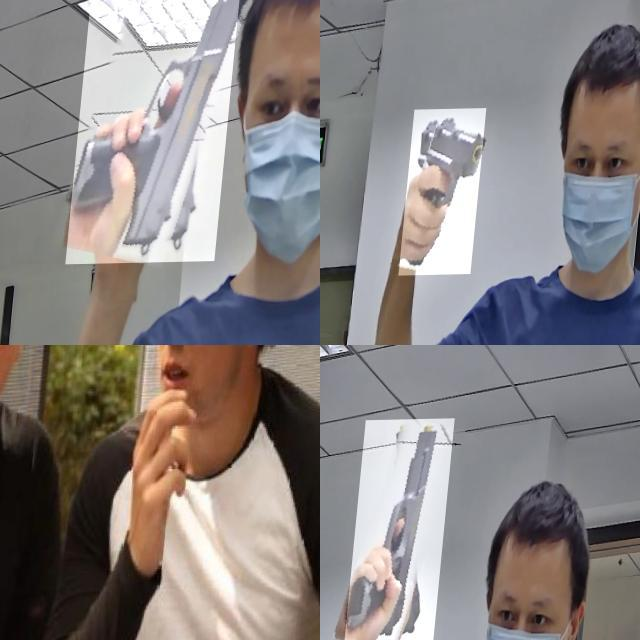-: (0, 451, 51, 640)
gun-knife-thesis - v11 Yolov5 augmented: (72, 0, 245, 265), (352, 420, 458, 640), (409, 110, 493, 276)
